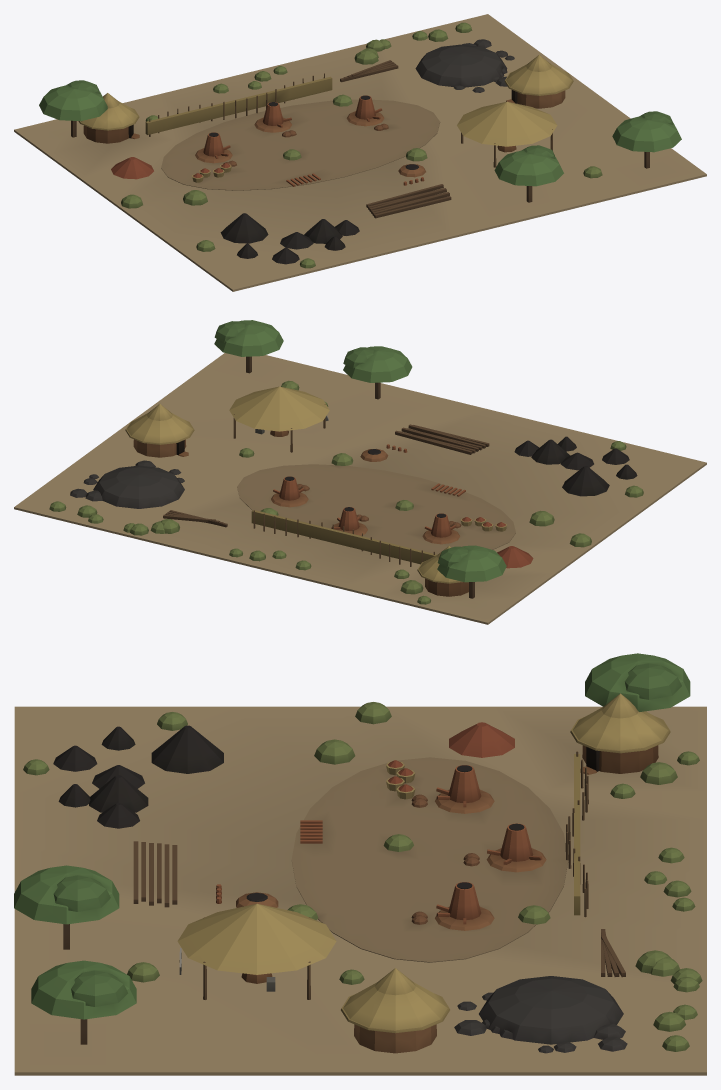
Rendered from smelting-area.glb.
3 renders of one model, top to bottom at view 1: azimuth 30°, elevation 25°; view 2: azimuth 150°, elevation 25°; view 3: azimuth 270°, elevation 25°, orthographic. The views are drawn at different scales.
Visible parts, largest first — view 1: p0_ground, p1_furnaces; view 2: p0_ground, p1_furnaces; view 3: p0_ground, p1_furnaces.
Part boxes in pixels (bbox=[...]): p0_ground: bbox=[14, 14, 706, 291]; p1_furnaces: bbox=[39, 22, 681, 268]; p0_ground: bbox=[14, 353, 706, 624]; p1_furnaces: bbox=[49, 320, 643, 604]; p0_ground: bbox=[14, 706, 706, 1075]; p1_furnaces: bbox=[14, 653, 702, 1053].
Bounding box in the file's own units: 50 × 5.07 × 40.04.
